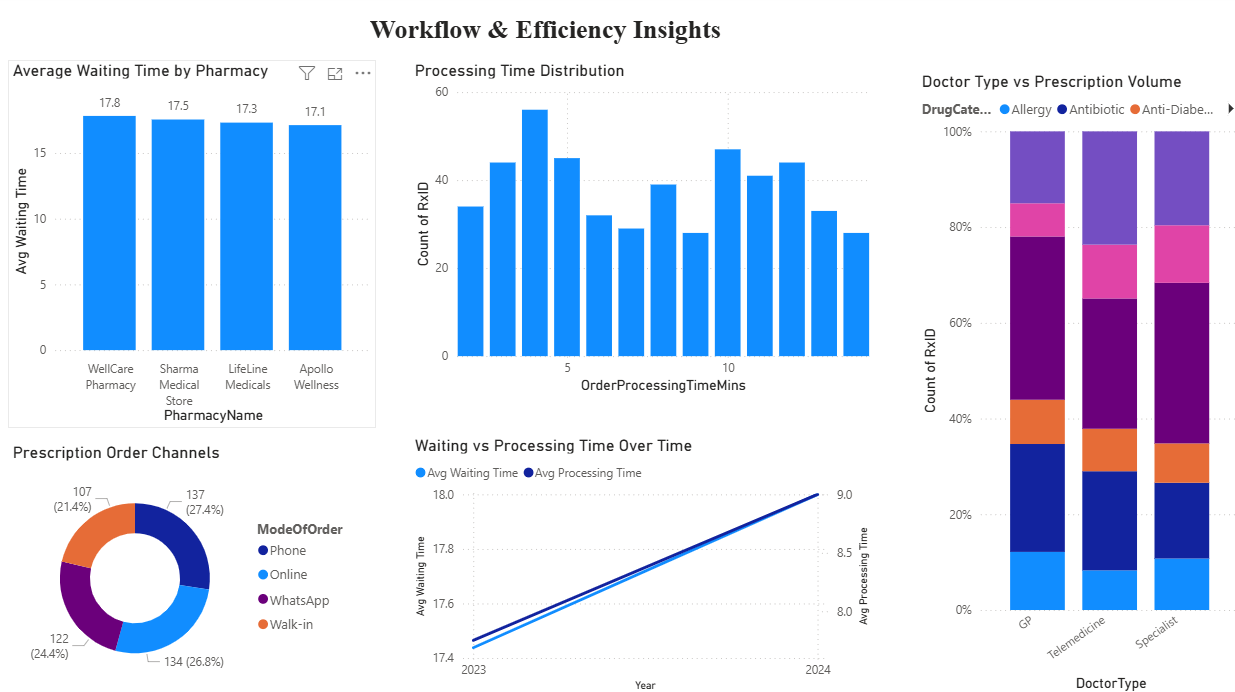

This screenshot's page, from the dashboard's own definition file:
{"tool":"powerbi","page":{"name":"Workflow & Efficiency Insights","canvas":[1280,720],"ordinal":2},"visuals":[{"type":"columnChart","title":"Average Waiting Time by Pharmacy","fields":{"Category":["pharmacy_operations_dataset.PharmacyName"],"Y":["pharmacy_operations_dataset.Avg Waiting Time"]},"box":[8.2,66.8,378,378],"z":0},{"type":"textbox","box":[374.5,15.4,476.9,46.3],"z":1},{"type":"columnChart","title":"Processing Time Distribution","fields":{"Category":["pharmacy_operations_dataset.OrderProcessingTimeMins"],"Y":["CountNonNull(pharmacy_operations_dataset.RxID)"]},"box":[421.2,66.8,476.7,347.2],"z":2},{"type":"donutChart","title":"Prescription Order Channels","fields":{"Category":["pharmacy_operations_dataset.ModeOfOrder"],"Y":["CountNonNull(pharmacy_operations_dataset.RxID)"]},"box":[8.2,459.2,366.7,260.9],"z":3},{"type":"hundredPercentStackedColumnChart","title":"Doctor Type vs Prescription Volume","fields":{"Category":["pharmacy_operations_dataset.DoctorType"],"Y":["CountNonNull(pharmacy_operations_dataset.RxID)"],"Series":["pharmacy_operations_dataset.DrugCategory"]},"box":[942,78.1,338,642.1],"z":4},{"type":"lineChart","title":"Waiting vs Processing Time Over Time","fields":{"Category":["pharmacy_operations_dataset.Date.Variation.Date Hierarchy.Year","pharmacy_operations_dataset.Date.Variation.Date Hierarchy.Quarter","pharmacy_operations_dataset.Date.Variation.Date Hierarchy.Month","pharmacy_operations_dataset.Date.Variation.Date Hierarchy.Day"],"Y":["pharmacy_operations_dataset.Avg Waiting Time"],"Y2":["pharmacy_operations_dataset.Avg Processing Time"]},"box":[421.2,452,476.7,268.1],"z":5}]}

Visuals, with their boxes in screenshot pixels (x1, y1, x2, y2), scaled from the page's 1280x720 canvas onto the 1235x692 screenshot:
"Average Waiting Time by Pharmacy" columnChart: [x1=8, y1=64, x2=373, y2=428]
textbox: [x1=361, y1=15, x2=821, y2=59]
"Processing Time Distribution" columnChart: [x1=406, y1=64, x2=866, y2=398]
"Prescription Order Channels" donutChart: [x1=8, y1=441, x2=362, y2=691]
"Doctor Type vs Prescription Volume" hundredPercentStackedColumnChart: [x1=909, y1=75, x2=1234, y2=691]
"Waiting vs Processing Time Over Time" lineChart: [x1=406, y1=434, x2=866, y2=691]
